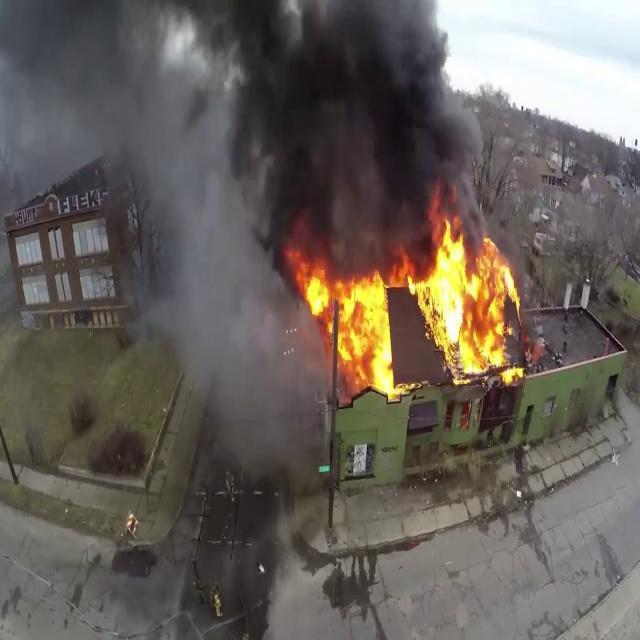Fire: (412, 212, 524, 380), (294, 237, 392, 395)
Smoke: (92, 0, 311, 444), (190, 0, 480, 254)
